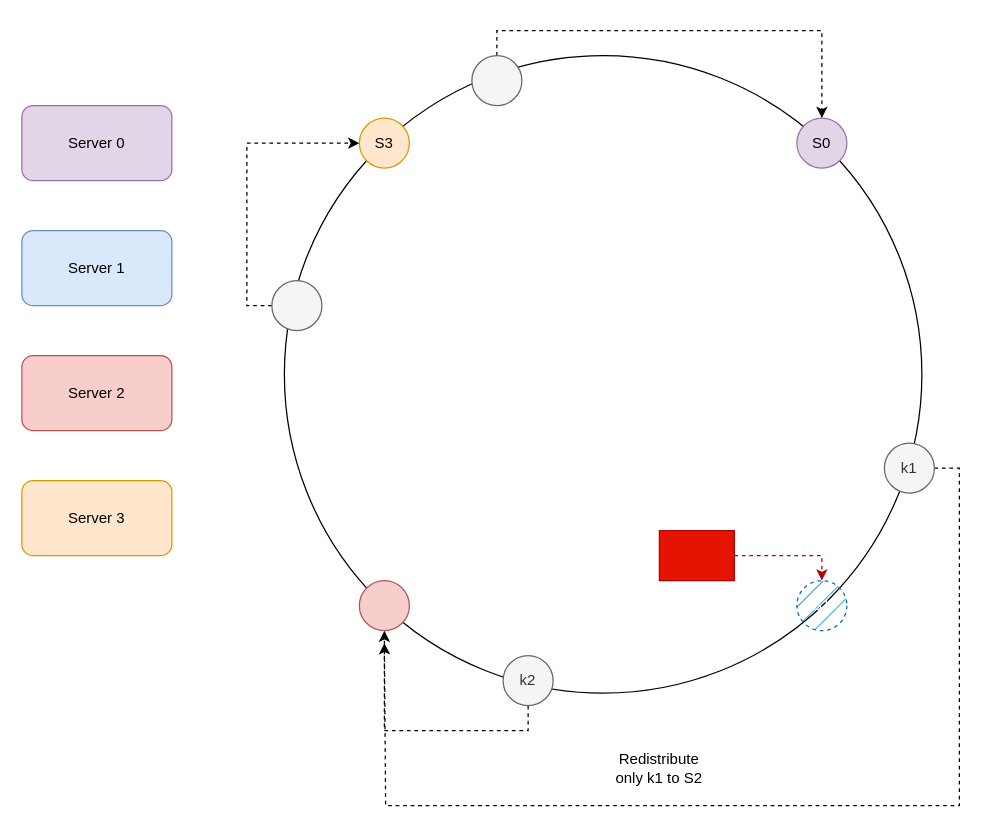
Some shapes in this 991 by 838 pixel diagram are drawn without their labels. The centre of each missing label's shape, as x and y in pixels:
k0: point (496, 80)
k3: point (296, 305)
Remove S1: point (696, 555)
S2: point (383, 605)
